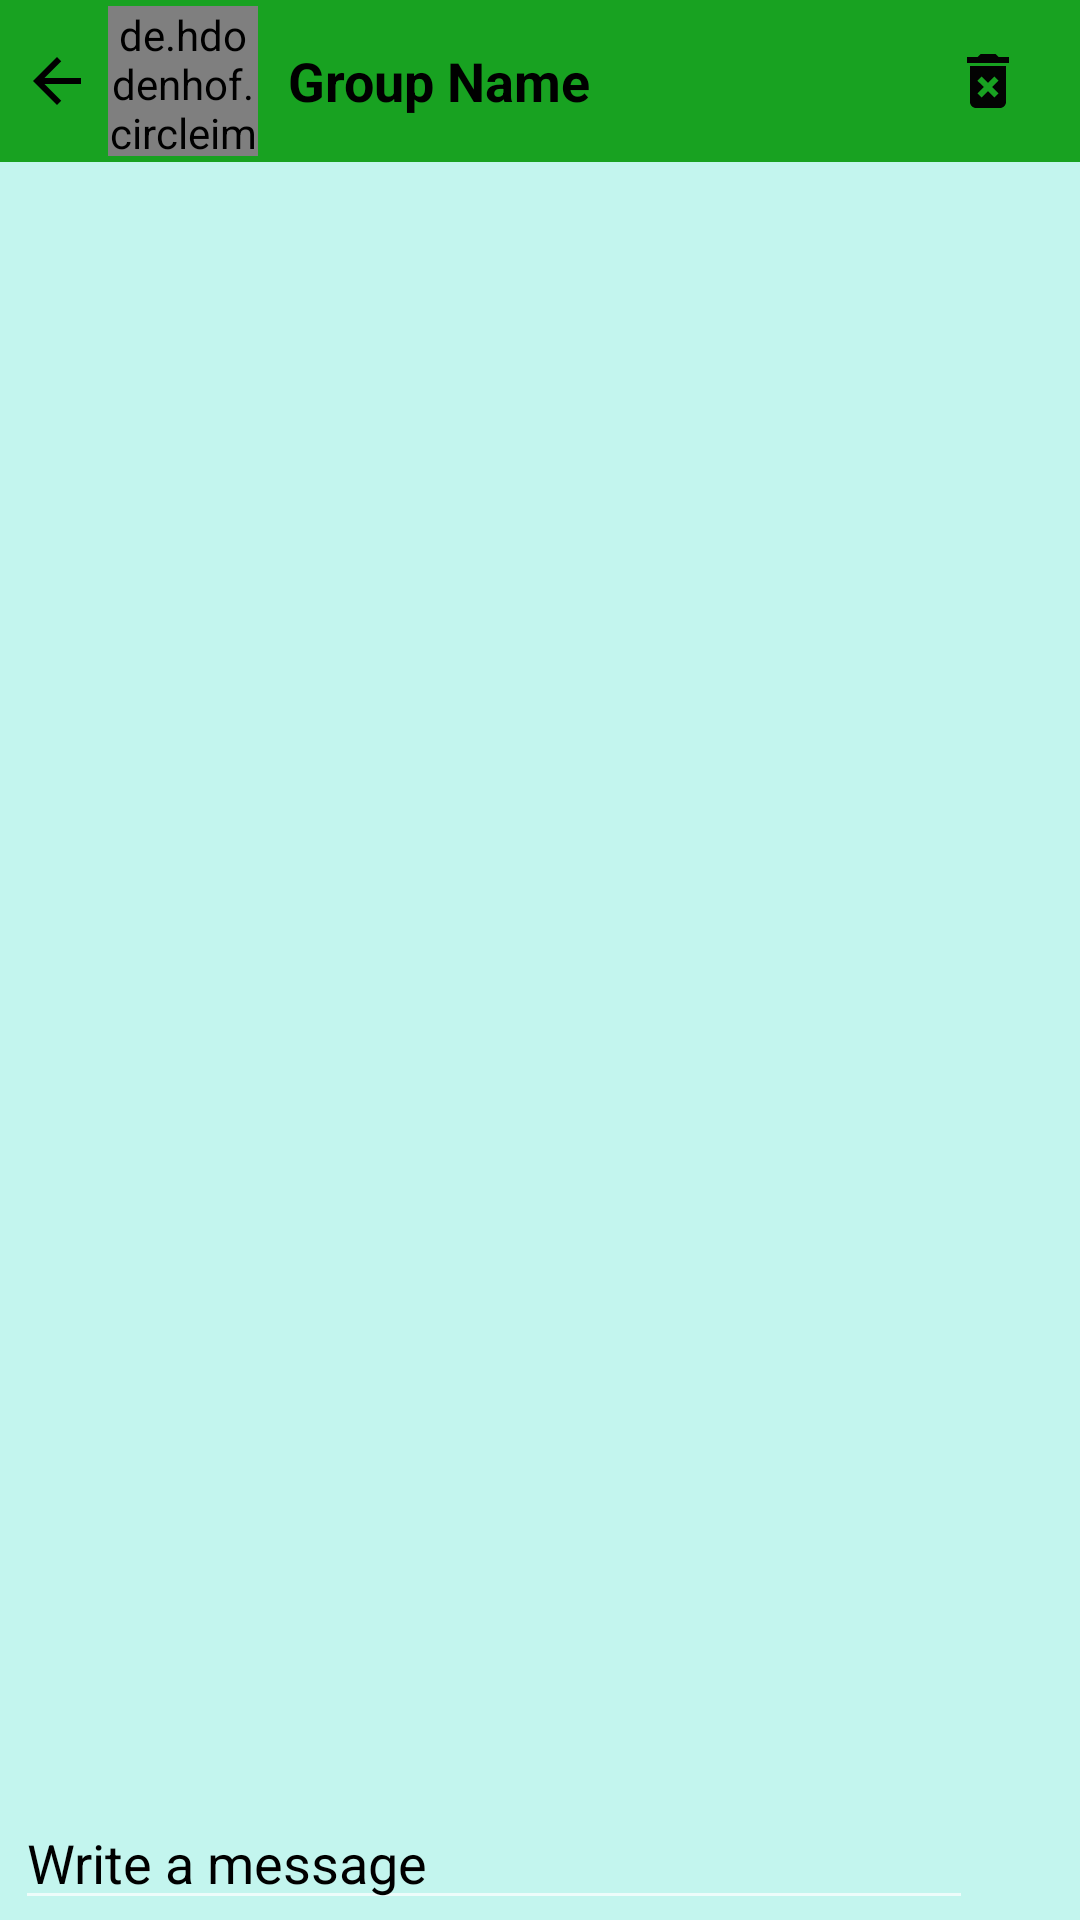

Named icons in this screenshot (1080x1920) and their centers, (x,y):
arrow back: (57,81)
delete forever: (988,81)
